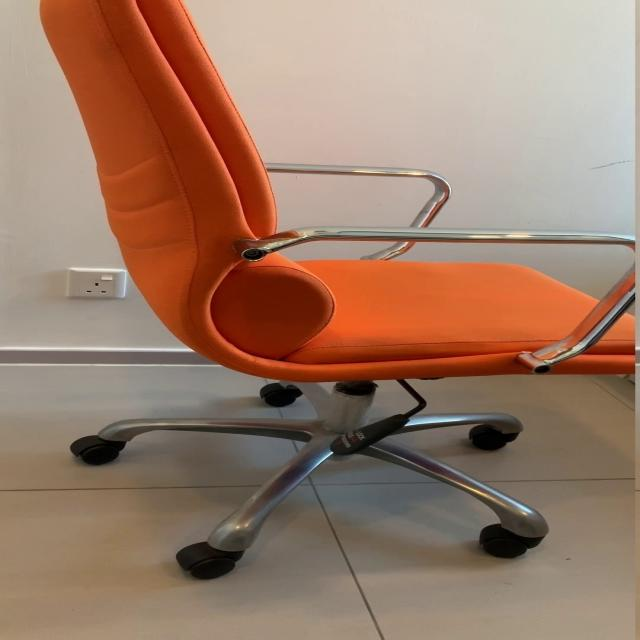Chair: (37, 1, 640, 586)
